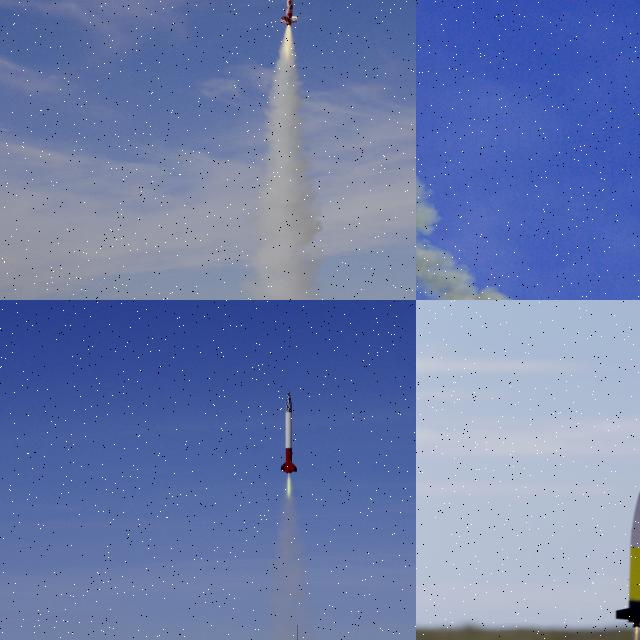Rocket: (615, 491, 640, 628), (280, 390, 298, 474), (280, 0, 298, 26)
